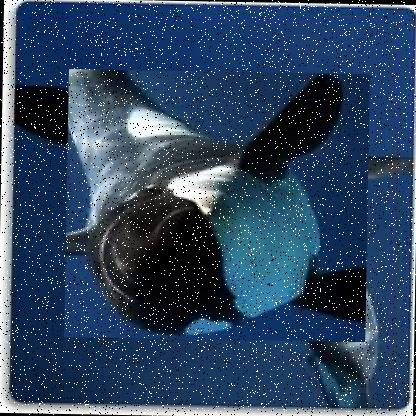killer_whale: (63, 67, 370, 341)
